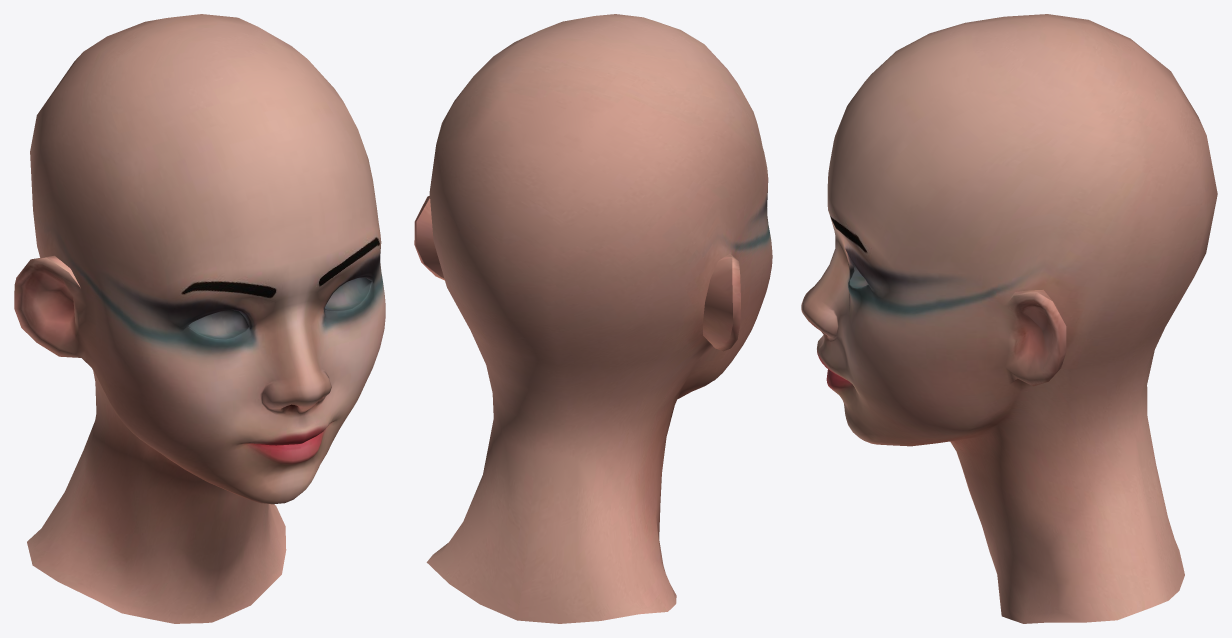
The model's file is makyaj5.glb.
3 renders of one model, left to right at view 1: azimuth 30°, elevation 25°; view 2: azimuth 150°, elevation 25°; view 3: azimuth 270°, elevation 25°, orthographic. The views are drawn at different scales.
Visible parts, largest first — view 1: Wolf3D_Head; view 2: Wolf3D_Head; view 3: Wolf3D_Head.
Part boxes in pixels (x1,y1,x2,y2): Wolf3D_Head: (14, 14, 385, 623); Wolf3D_Head: (414, 14, 772, 623); Wolf3D_Head: (801, 14, 1217, 623).
Size of the model in its own units: 0.1899 by 0.3109 by 0.2036.
1 material, 1 textured.
